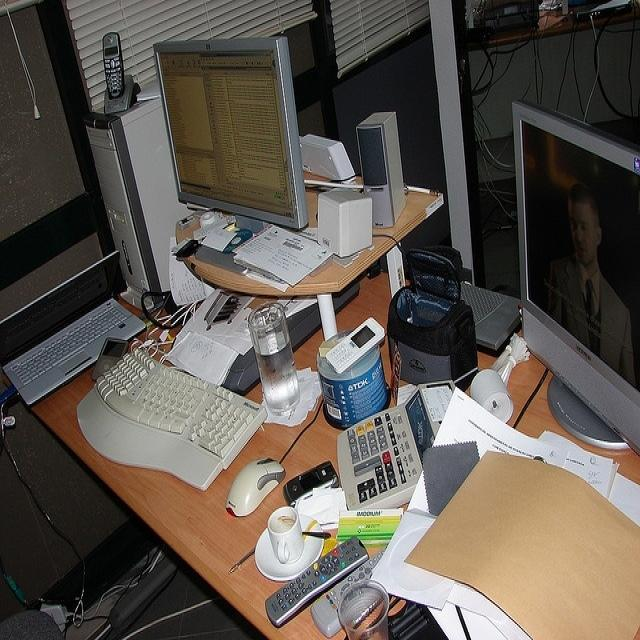E-waste: (5, 17, 640, 616)
